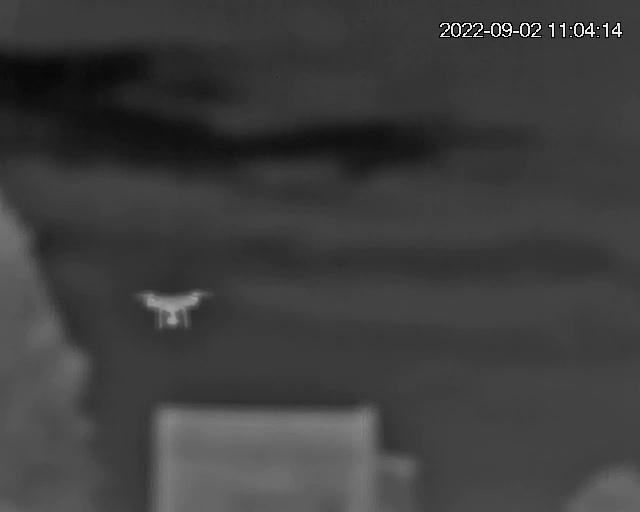DJI-Phantom: (137, 287, 214, 335)
